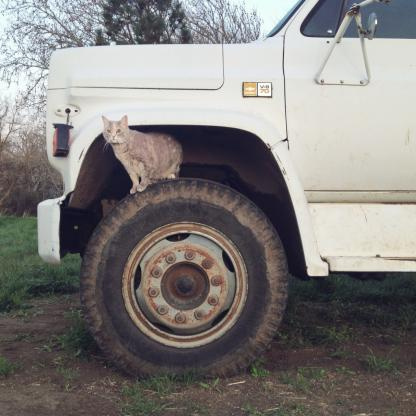Car: (37, 0, 416, 382)
Truck: (16, 23, 396, 378)
